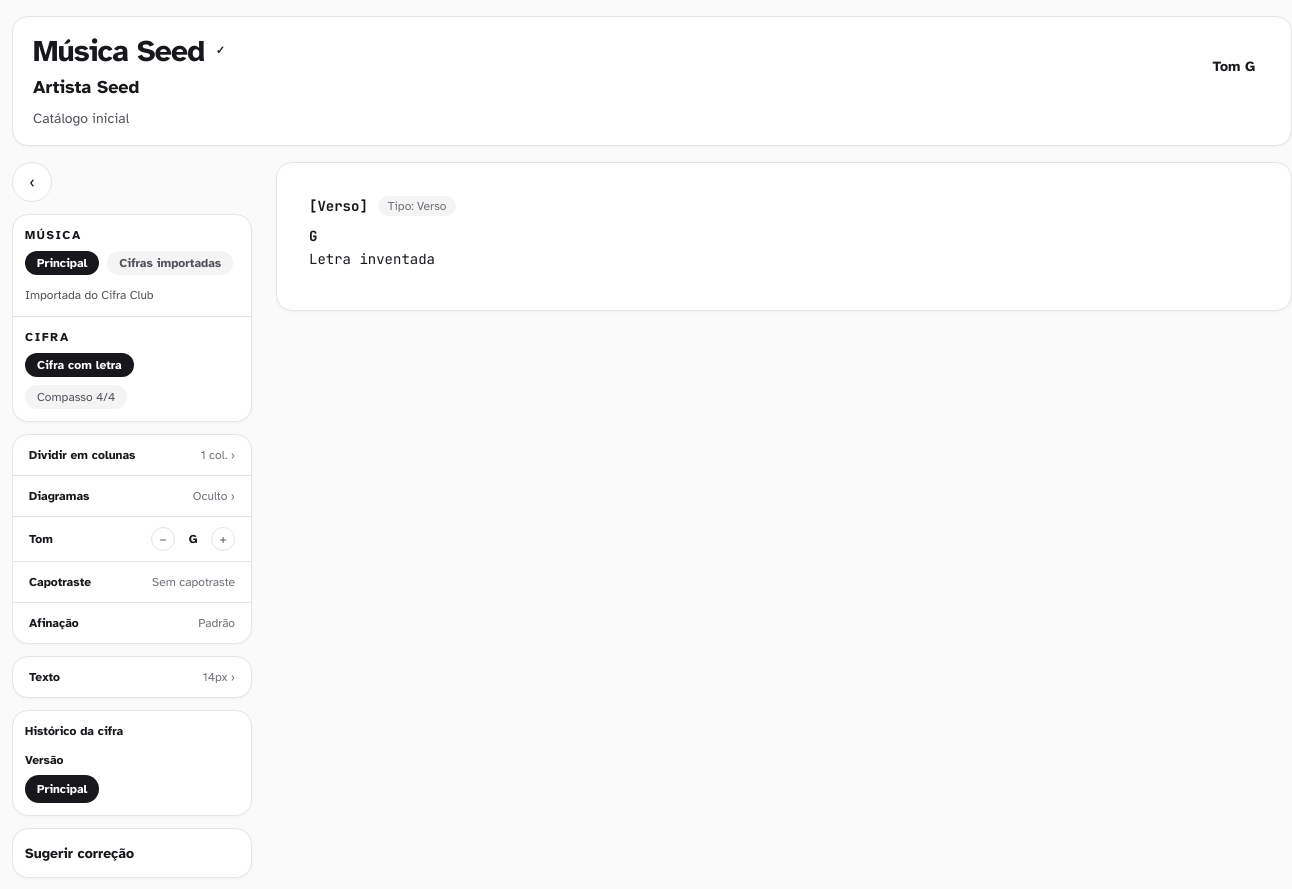
Test: SongDetail › adjusts and persists chart text settings from the resources sidebar
The image size is (1292, 889).
Check: the heading "Música Seed" is shown, box left=33, top=33, right=204, bottom=69
Click the button "Texto 14px ›" at (132, 676), box left=13, top=656, right=251, bottom=696
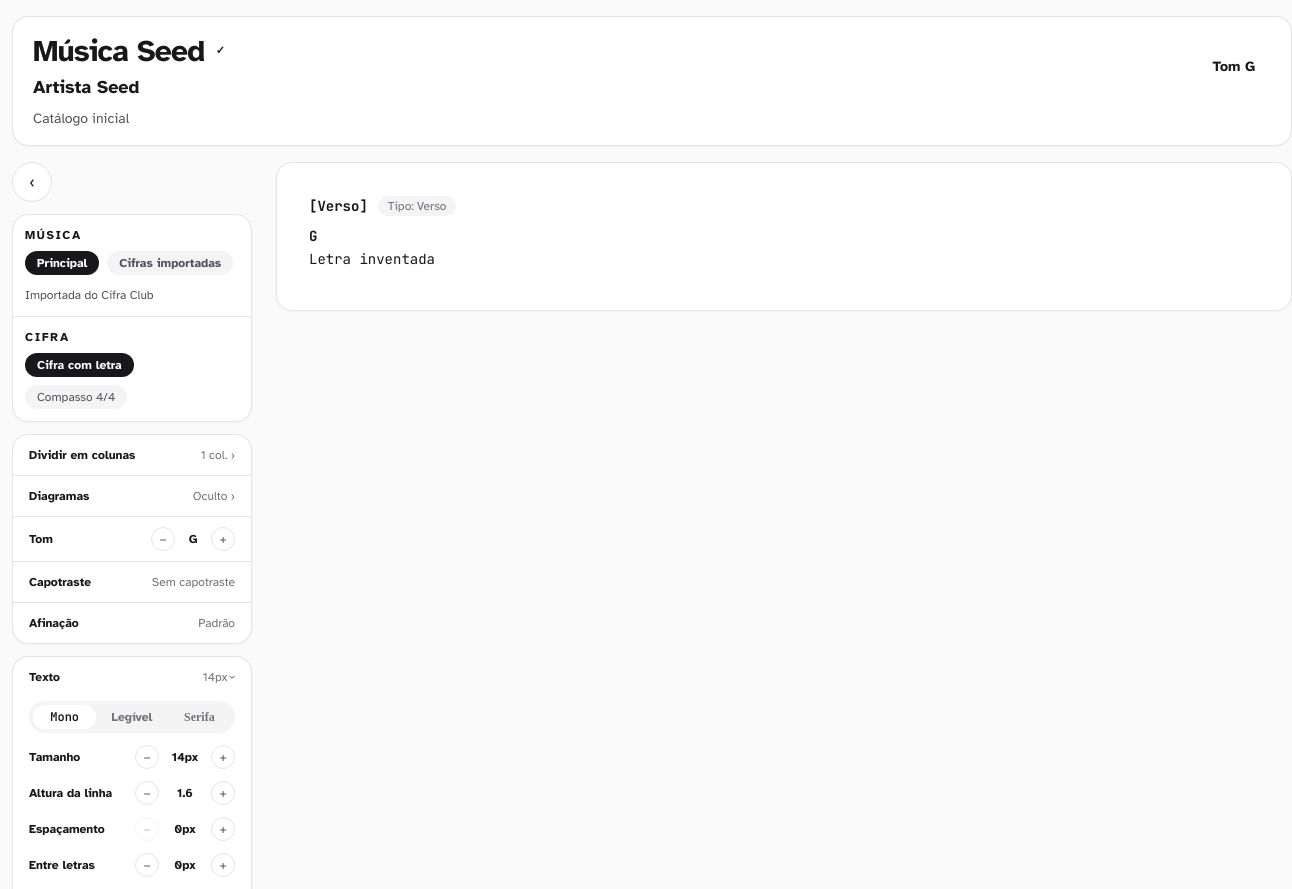
Click the button named "Aumentar tamanho" at (223, 756), box left=211, top=744, right=235, bottom=768
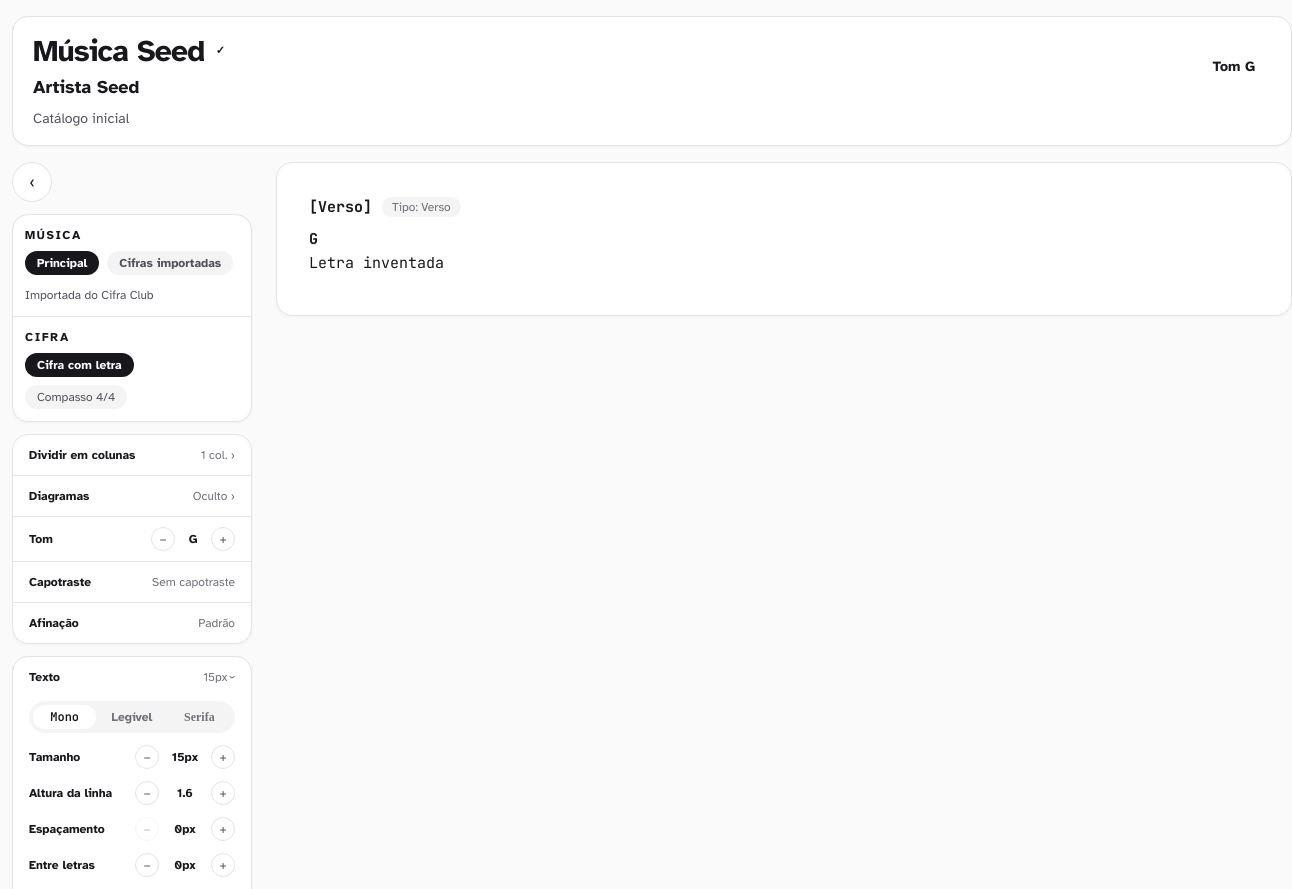
Click the button "Serifa" at (199, 716), box left=168, top=704, right=231, bottom=728
(page scrolled)
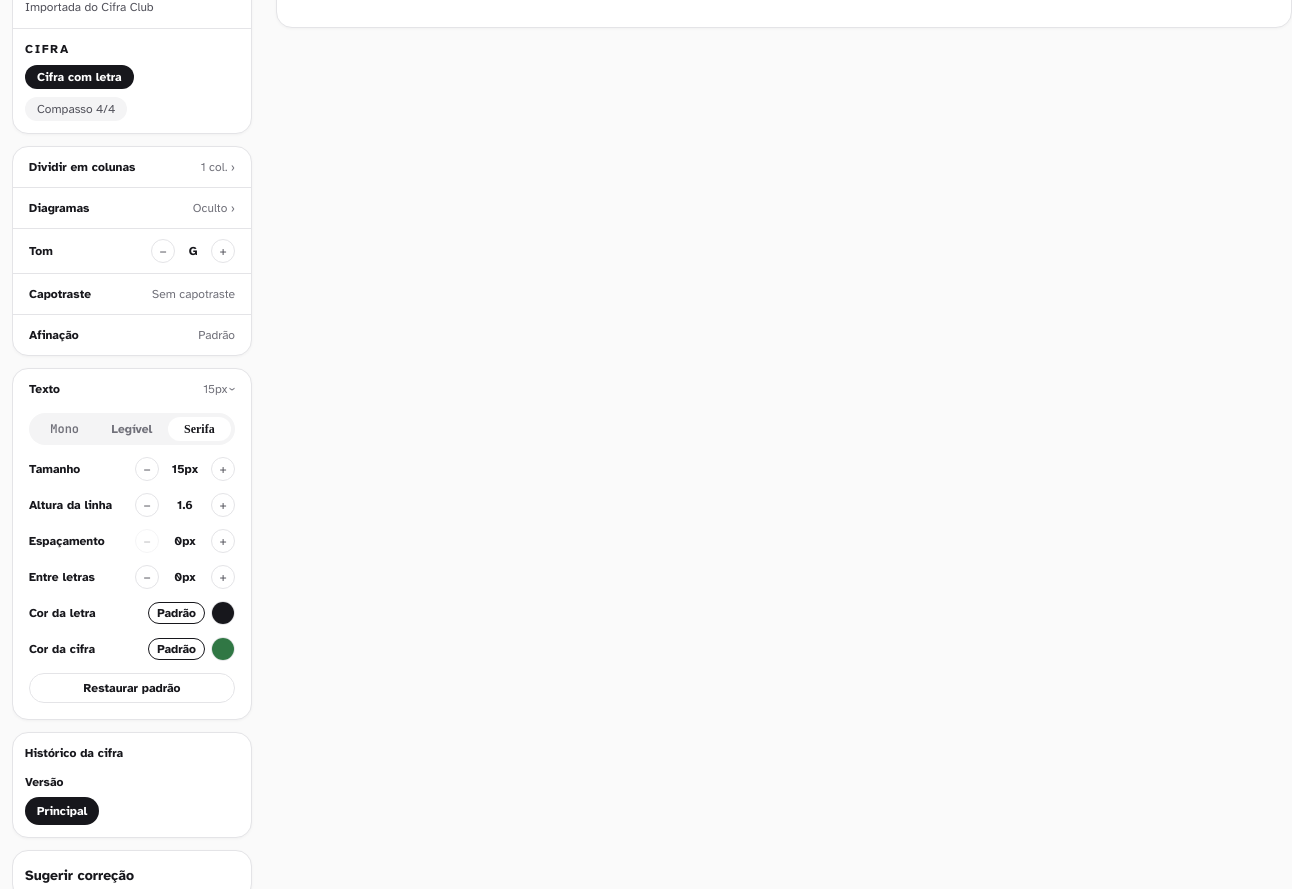
Check: the text "15px" is shown, box left=172, top=462, right=198, bottom=476
Click the button "Restaurar padrão" at (132, 688), box left=29, top=672, right=235, bottom=702
(page scrolled)
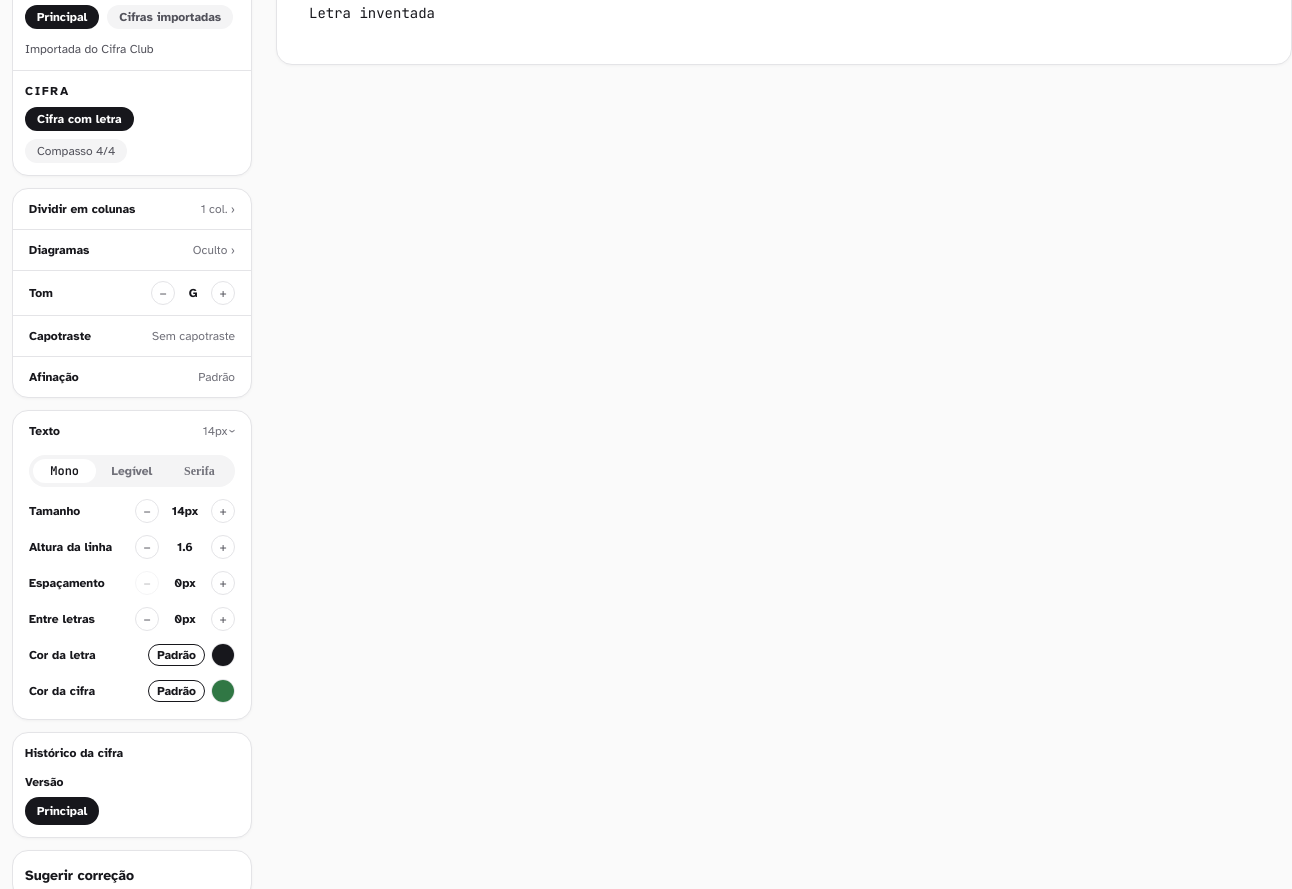
Check: the text "14px" is shown, box left=172, top=504, right=198, bottom=518
